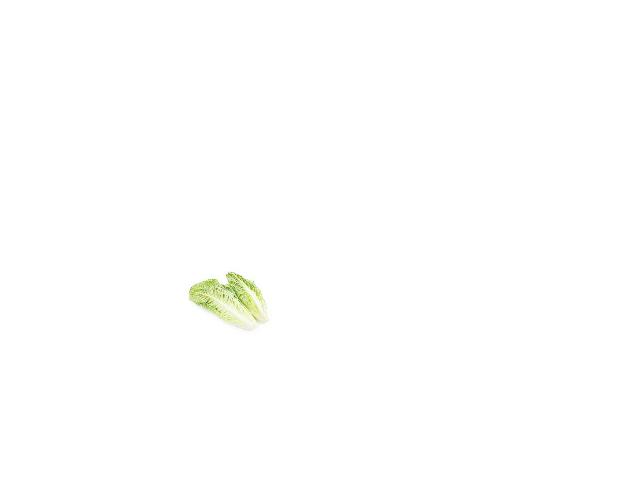lettuce: (188, 276, 252, 334)
